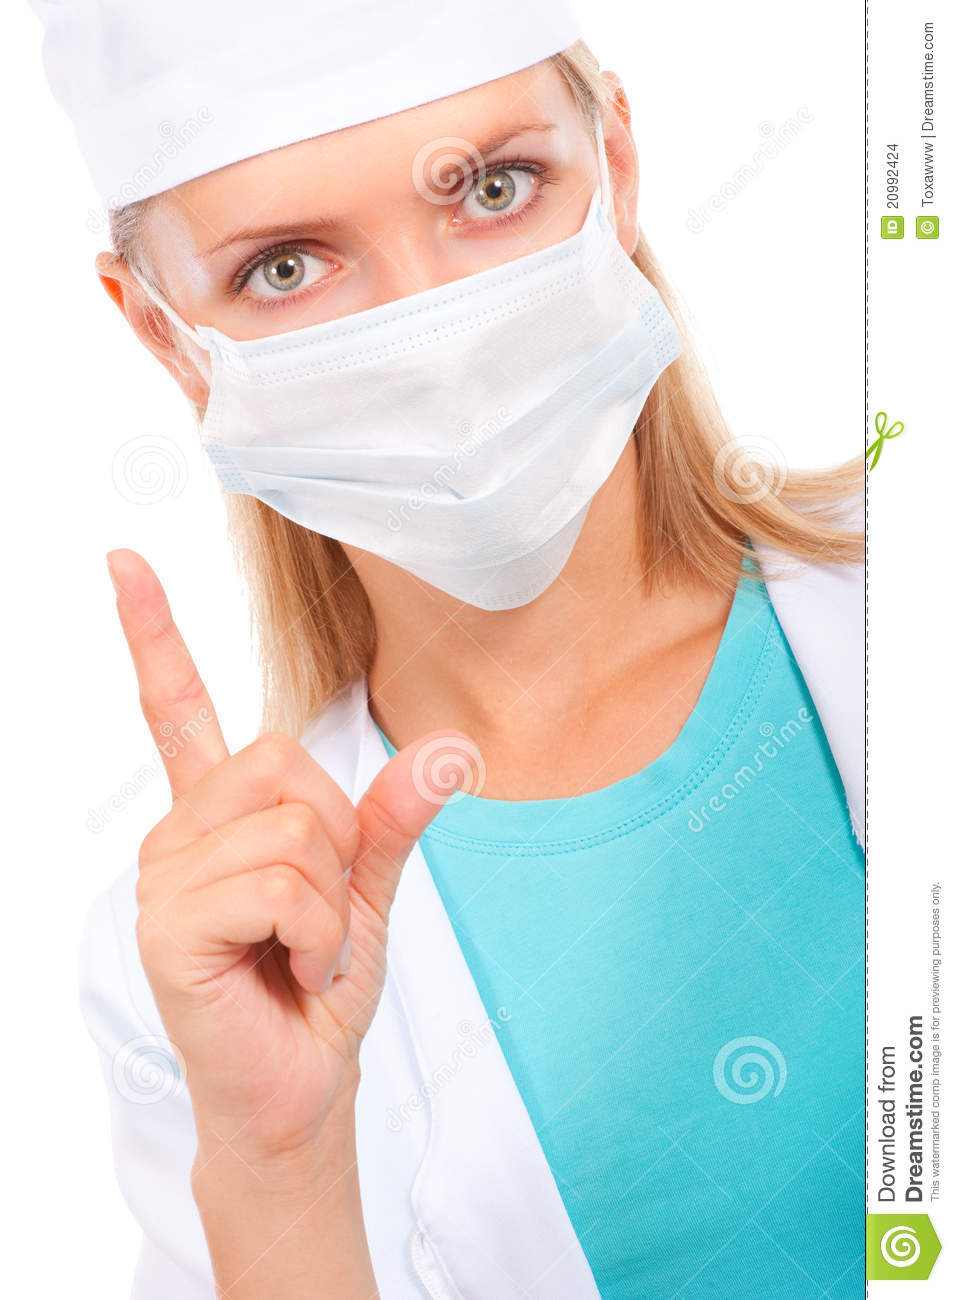mask: (201, 244, 664, 607)
